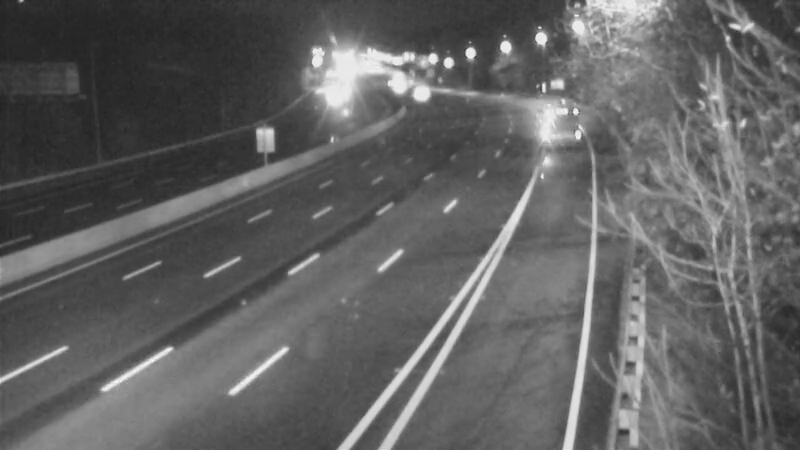vehicle: (396, 65, 446, 115), (533, 95, 583, 145), (306, 71, 356, 121)
